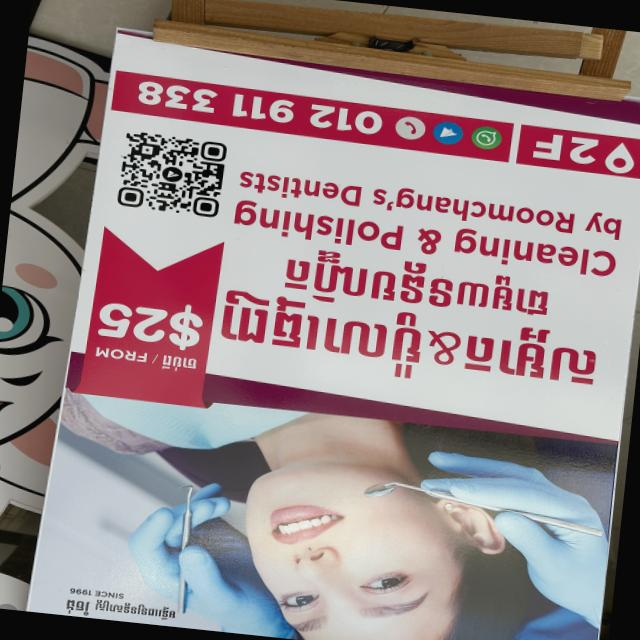137: (91, 292, 205, 356)
Yolov11kh: (209, 285, 615, 410), (266, 241, 560, 326), (156, 353, 203, 375)
